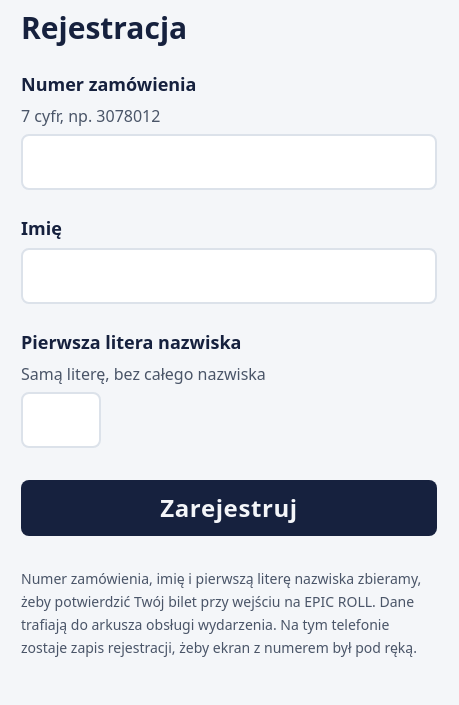
it: App › puste pola: komunikaty przy polach, bez wywołania API
The image size is (459, 705).
(page scrolled)
Step 1. Click the button "Zarejestruj" → (229, 508), box [21,480,437,536]
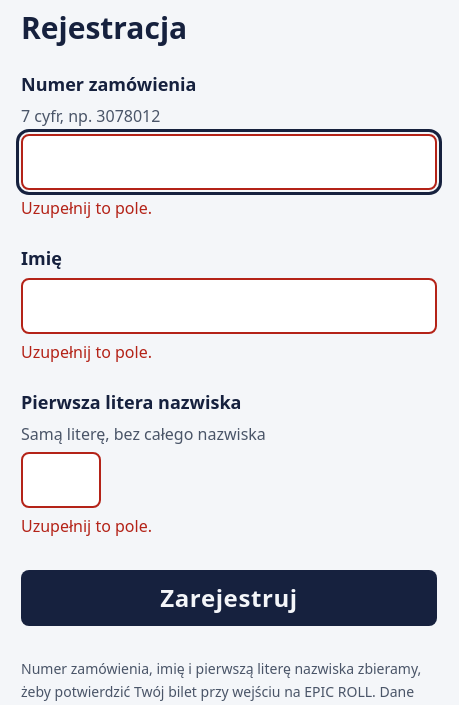
Now the text "Uzupełnij to pole." is shown 3 times, box [21,197,152,219]; [21,341,152,363]; [21,515,152,537]
